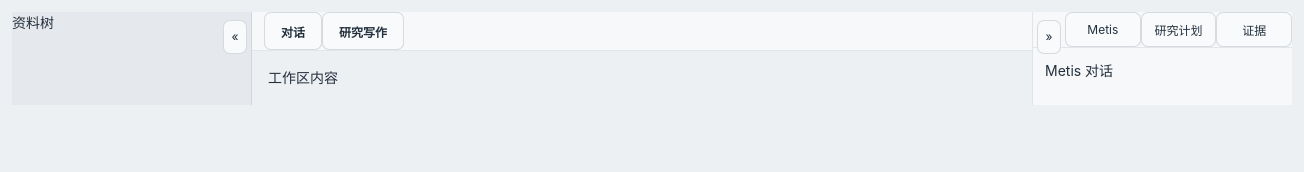
Test: METIS-501 ProjectShell — collapse behavior › right collapse button toggles the panel and shell layout class
Expected: the text "Metis 对话" is shown, [1045,62,1113,79]
Click the button named "收起检查器" at [1049, 37], box [1037,20,1061,54]
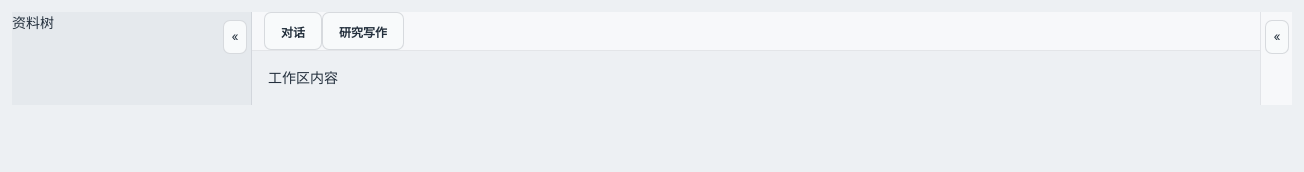
Result: the text with test id "metis-panel" is gone
